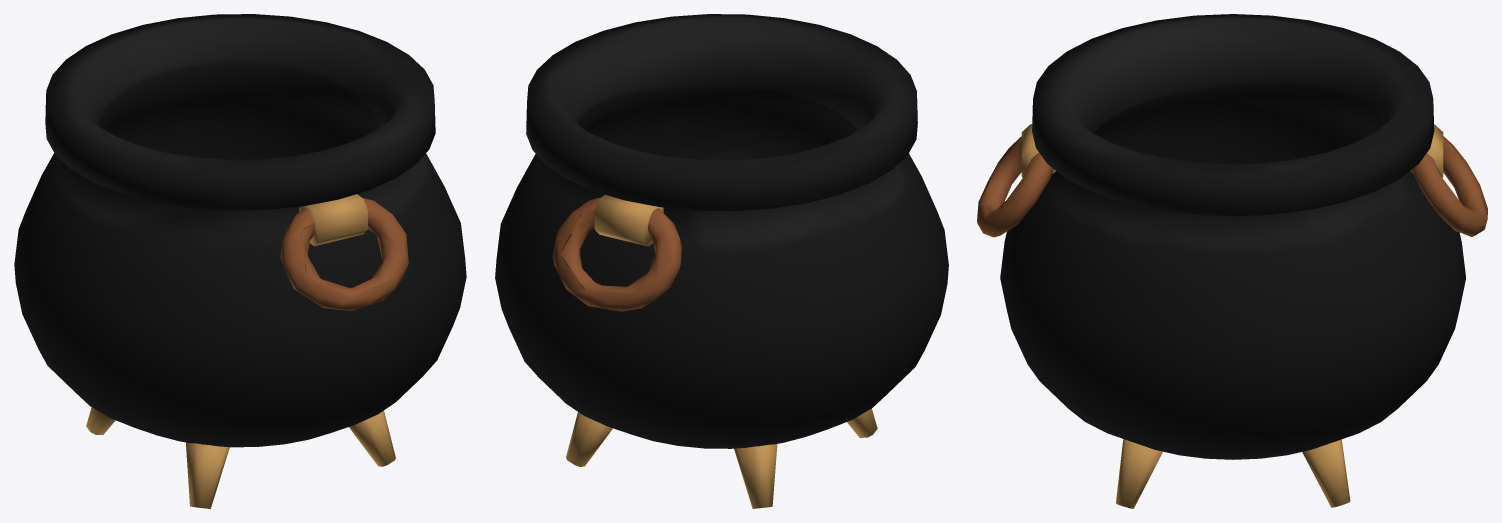
File: cauldron.dae
The picture shows the model from 3 angles, left to right: view 1: azimuth 30°, elevation 25°; view 2: azimuth 150°, elevation 25°; view 3: azimuth 270°, elevation 25°; orthographic projection. The views are drawn at different scales.
Parts seen in each view (by area): view 1: Sphere; view 2: Sphere; view 3: Sphere.
Part boxes in pixels (x1,y1,x2,y2): Sphere: [14, 14, 466, 508]; Sphere: [495, 14, 948, 508]; Sphere: [977, 14, 1487, 508].
Size of the model in its own units: 2.45 by 2.69 by 2.15.
Materials: 1 (1 with a texture image).
